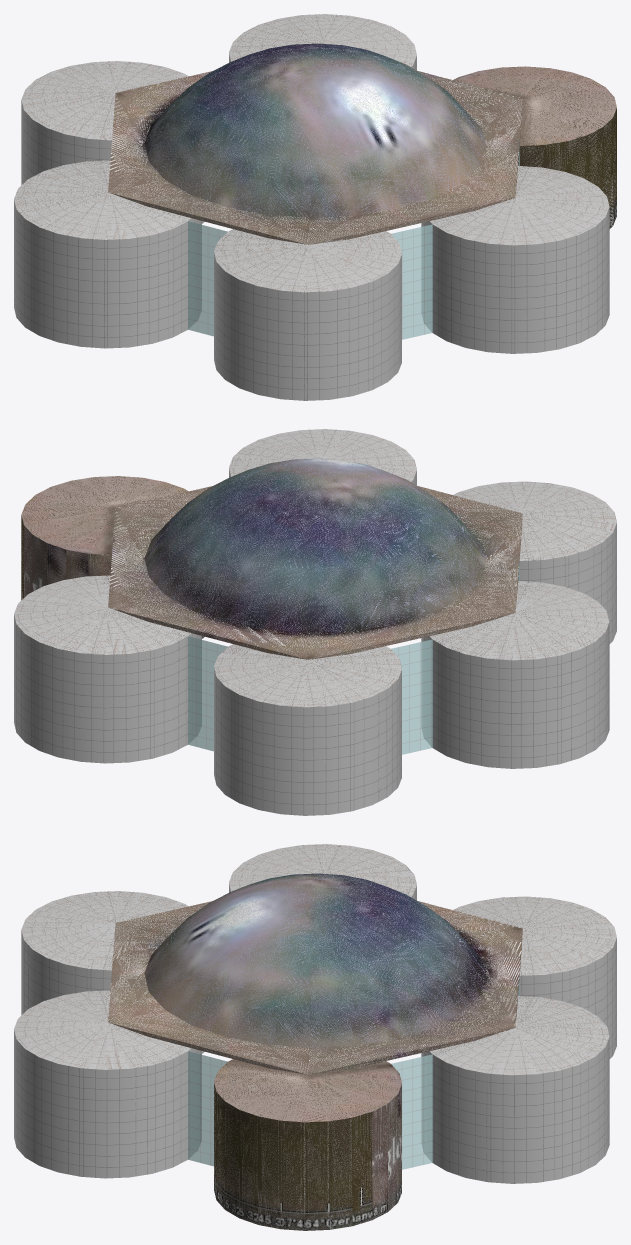
File: PERLAN.fbx
3 views of the same model, one above another, from view 1: azimuth 30°, elevation 25°; view 2: azimuth 150°, elevation 25°; view 3: azimuth 270°, elevation 25° (orthographic).
Parts seen in each view (by area): view 1: Group1, Component_5_1, Component_6_1, Component_4_1, Component_1_1, Component_3_1, Component_2_1; view 2: Group1, Component_3_1, Component_4_1, Component_2_1, Component_5_1, Component_1_1, Component_6_1; view 3: Group1, Component_1_1, Component_2_1, Component_6_1, Component_3_1, Component_5_1, Component_4_1.
Part boxes in pixels (x1,y1,x2,y2): Group1: (108, 43, 522, 339); Component_5_1: (214, 229, 401, 400); Component_6_1: (421, 166, 609, 353); Component_4_1: (14, 160, 201, 348); Component_1_1: (453, 66, 616, 228); Component_3_1: (21, 61, 204, 223); Component_2_1: (229, 14, 416, 70); Group1: (108, 458, 522, 754); Component_3_1: (214, 644, 401, 815); Component_4_1: (421, 581, 609, 768); Component_2_1: (14, 575, 201, 763); Component_5_1: (453, 481, 616, 643); Component_1_1: (21, 476, 204, 638); Component_6_1: (229, 429, 416, 485); Group1: (108, 873, 522, 1169); Component_1_1: (214, 1059, 401, 1230); Component_2_1: (421, 996, 609, 1183); Component_6_1: (14, 990, 201, 1178); Component_3_1: (453, 896, 616, 1058); Component_5_1: (21, 891, 204, 1053); Component_4_1: (229, 844, 416, 900).
Size of the model in its own units: 76.96 by 25.7 by 70.47.
